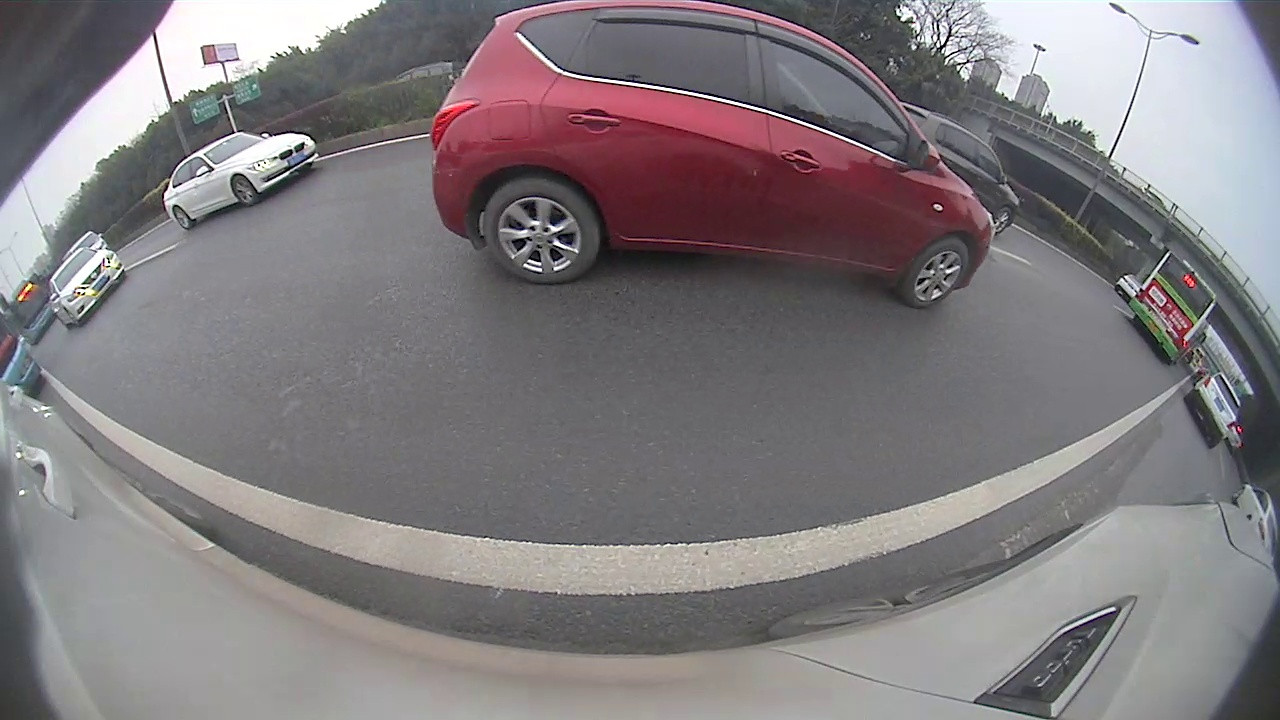bus: (1130, 252, 1217, 369)
car: (431, 2, 995, 310), (163, 132, 321, 229), (46, 246, 126, 329), (1182, 371, 1243, 446)
front: (901, 236, 971, 311), (229, 173, 259, 208)
rear: (481, 172, 604, 287), (173, 205, 193, 229)
